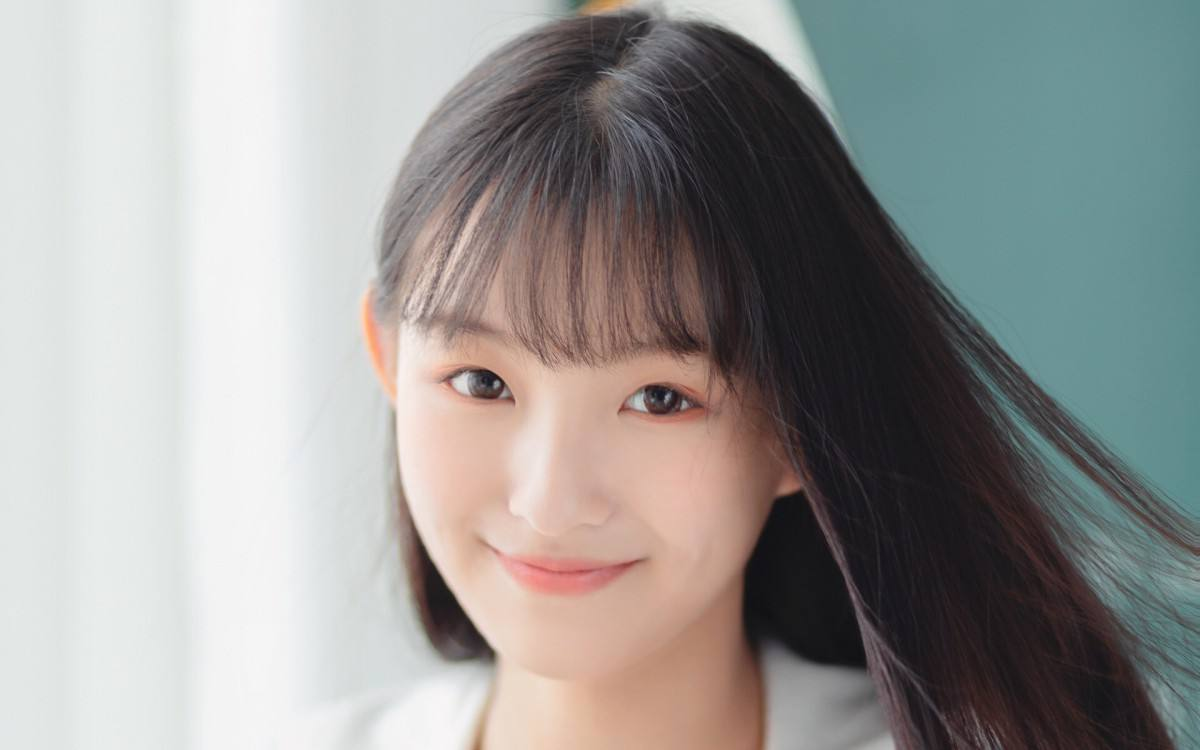person: (292, 30, 1009, 750)
